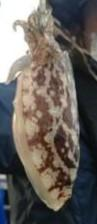Cephalopod: (6, 0, 81, 214)
